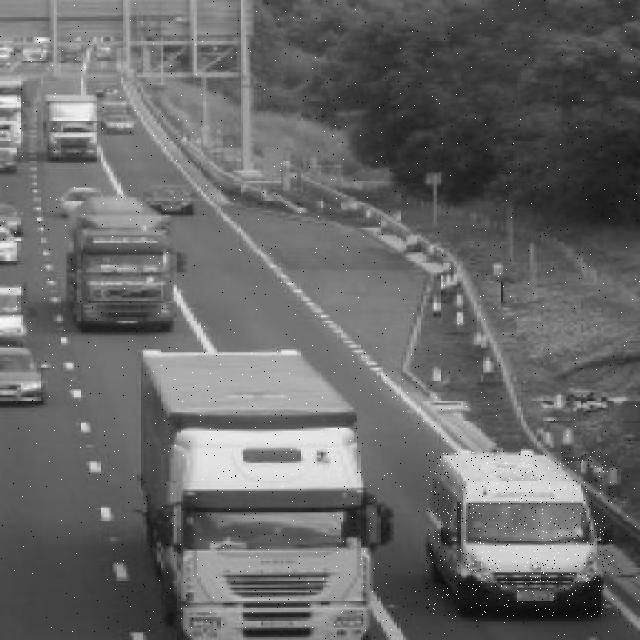Box Truck: (141, 351, 392, 640)
Van: (426, 451, 614, 617)
